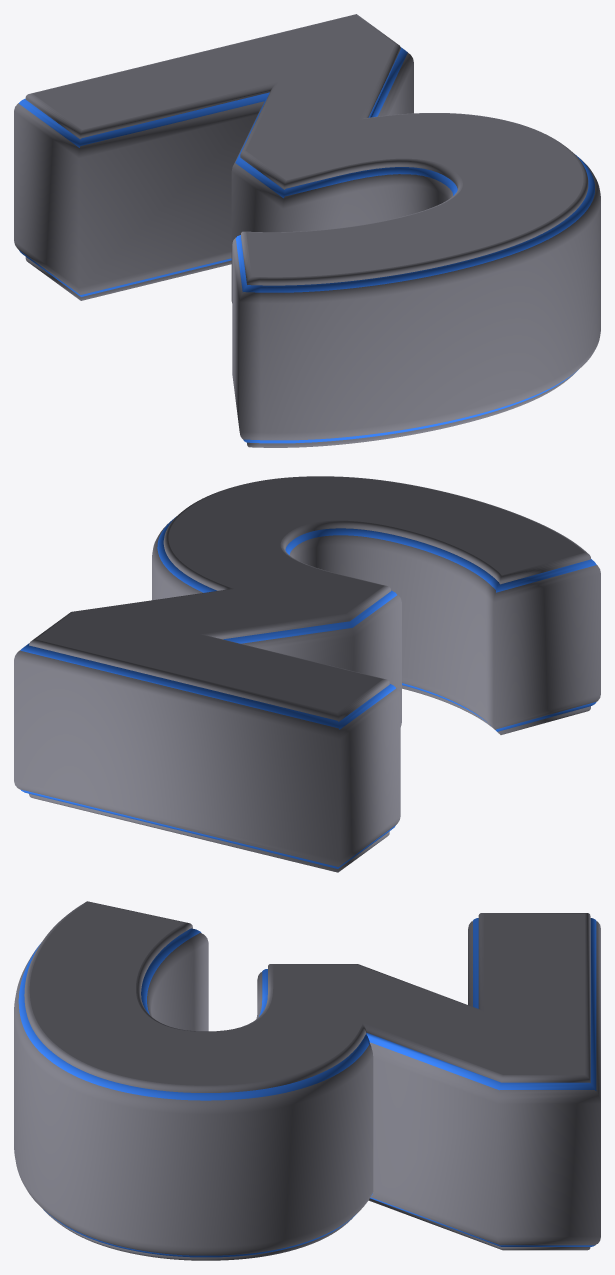
The model's file is 3d_number_-_3_three.fbx.
The picture shows the model from 3 angles, top to bottom: view 1: azimuth 30°, elevation 25°; view 2: azimuth 150°, elevation 25°; view 3: azimuth 270°, elevation 25°; orthographic projection. The views are drawn at different scales.
Parts seen in each view (by area): view 1: imagetostl_mesh1, imagetostl_mesh2, imagetostl_mesh0; view 2: imagetostl_mesh1, imagetostl_mesh2, imagetostl_mesh0; view 3: imagetostl_mesh1, imagetostl_mesh2, imagetostl_mesh0.
Part boxes in pixels (bbox=[...]): imagetostl_mesh1: bbox=[14, 53, 600, 440]; imagetostl_mesh2: bbox=[25, 14, 588, 447]; imagetostl_mesh0: bbox=[19, 47, 594, 443]; imagetostl_mesh1: bbox=[14, 521, 600, 866]; imagetostl_mesh2: bbox=[29, 476, 590, 872]; imagetostl_mesh0: bbox=[20, 516, 596, 868]; imagetostl_mesh1: bbox=[14, 921, 600, 1255]; imagetostl_mesh2: bbox=[24, 901, 590, 1260]; imagetostl_mesh0: bbox=[18, 918, 596, 1257].
Bounding box in the file's own units: 44.94 × 18.4 × 56.06.
